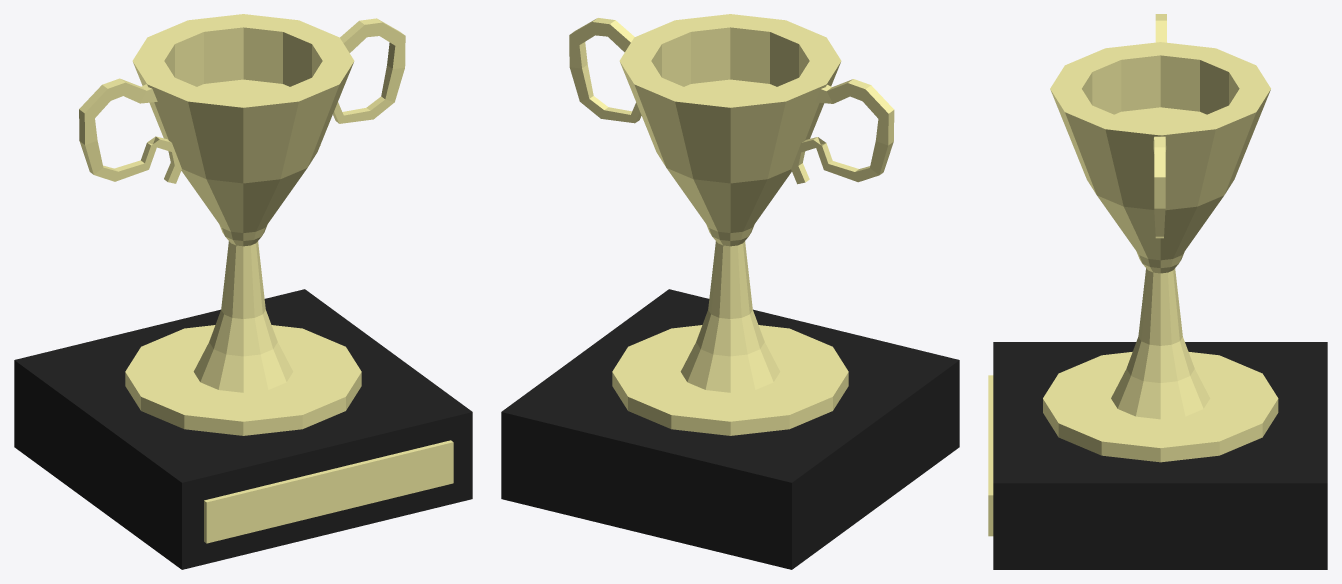
The model's file is trophy0.glb.
3 renders of one model, left to right at view 1: azimuth 30°, elevation 25°; view 2: azimuth 150°, elevation 25°; view 3: azimuth 270°, elevation 25°, orthographic.
Visible parts, largest first — view 1: trophy; view 2: trophy; view 3: trophy.
Part boxes in pixels (x1,y1,x2,y2): trophy: (14, 14, 472, 569); trophy: (501, 14, 959, 569); trophy: (988, 14, 1327, 569).
Size of the model in its own units: 5 by 6.29 by 4.61.
1 material, 1 textured.
